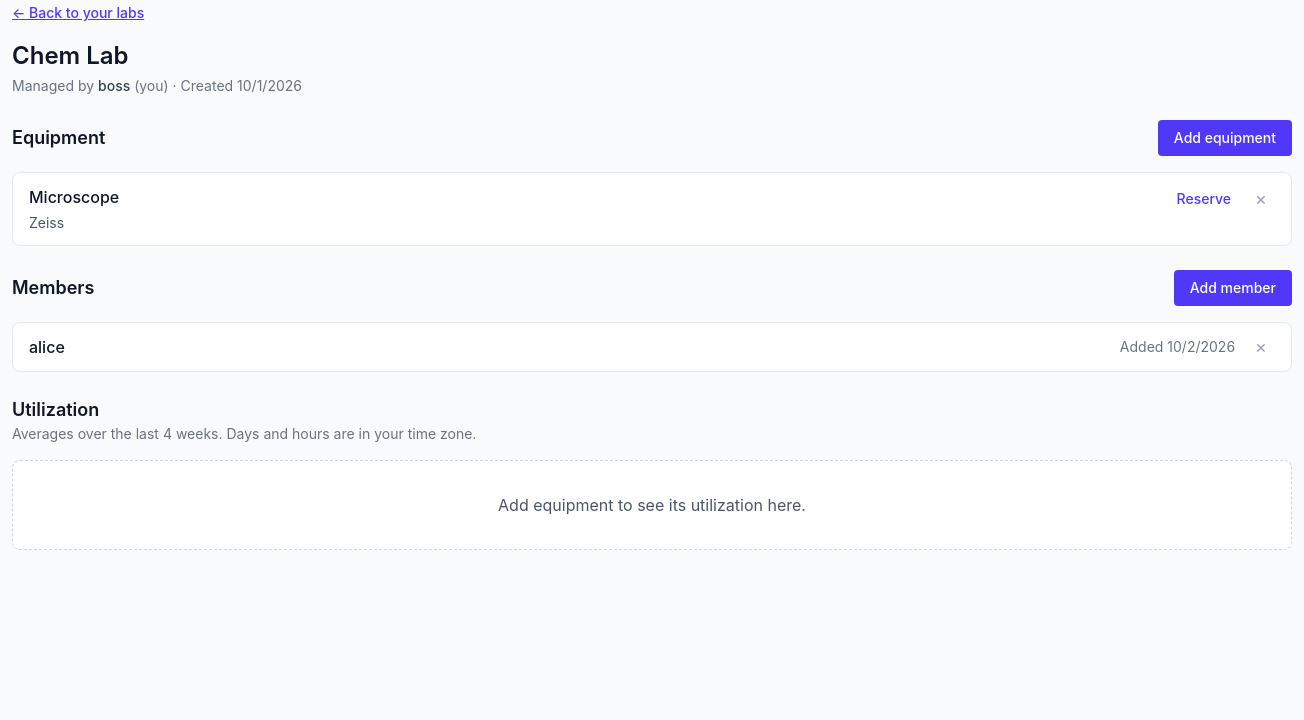
it: members › removes a member
Click the button named "Remove alice": (1261, 347) [1247,336,1275,358]
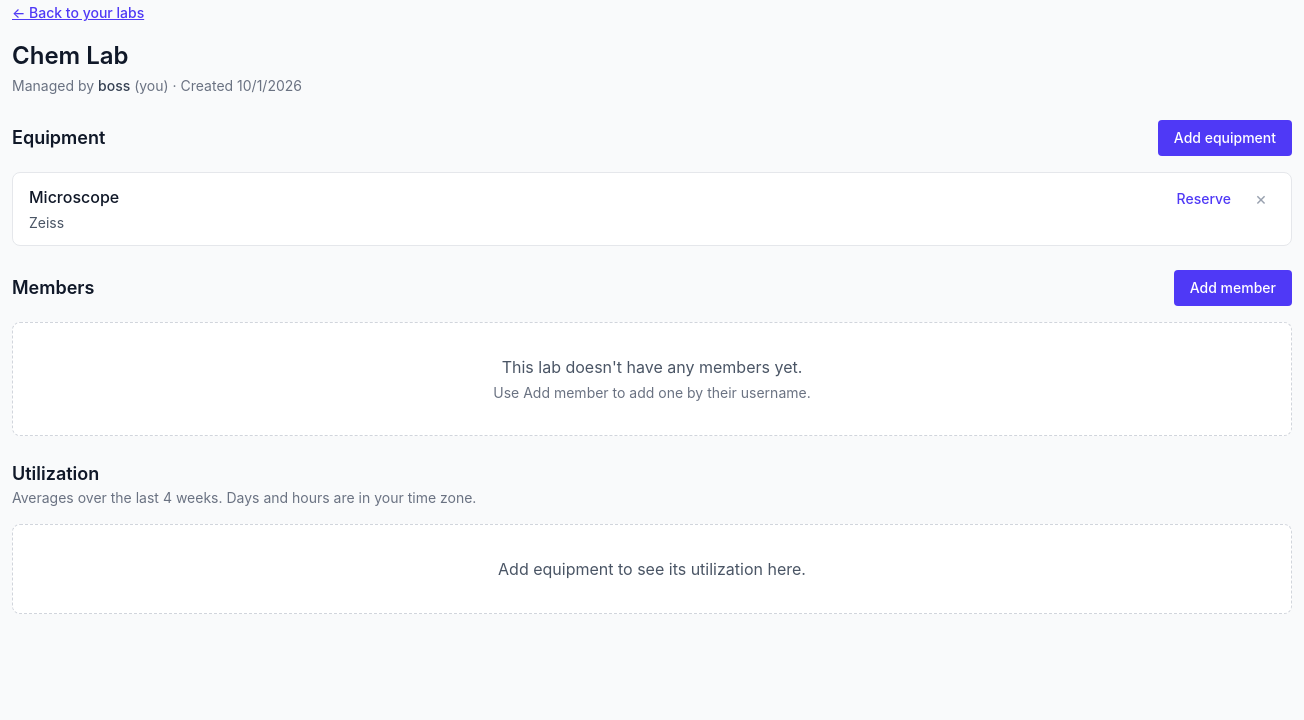
Expected: the text "alice" is gone
